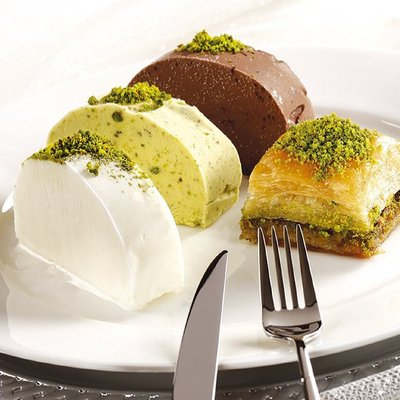sandwich: (171, 250, 229, 400)
soup: (239, 112, 400, 259)
